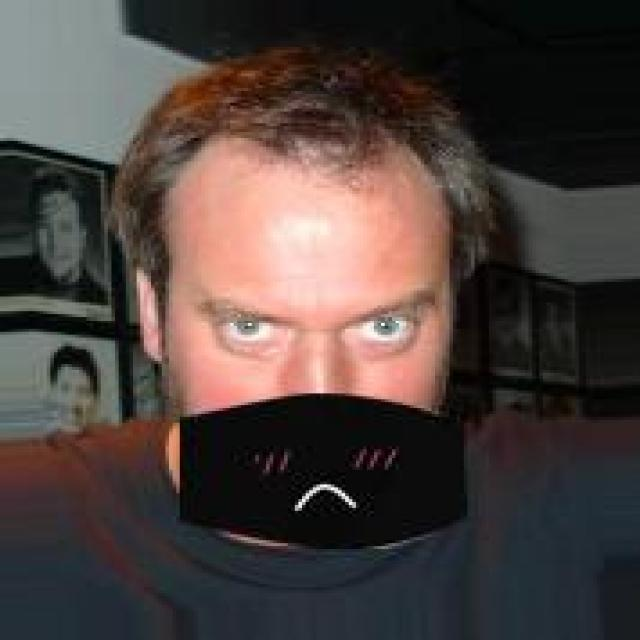mask: (100, 85, 536, 555)
